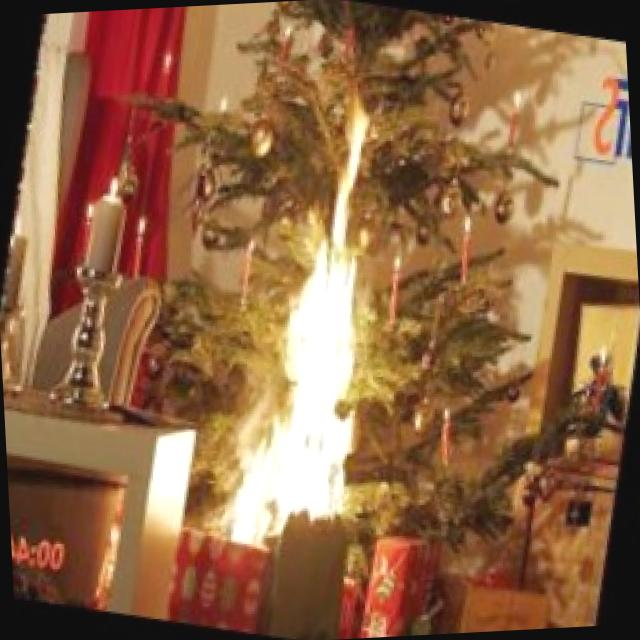fire: (188, 76, 460, 548)
